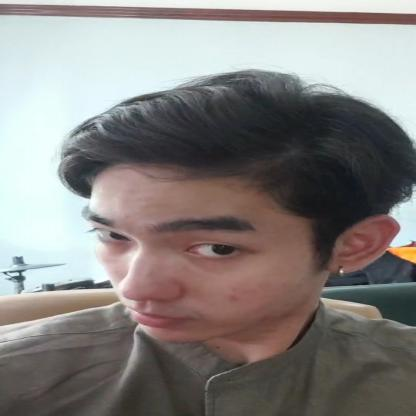Palm: (23, 58, 416, 375)
